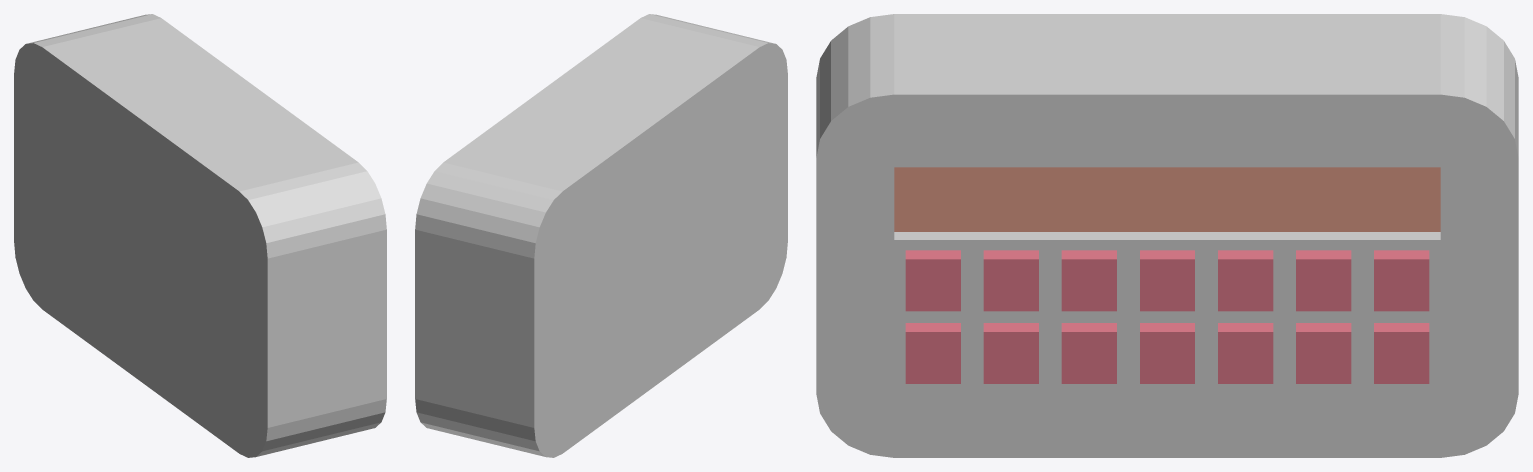
File: signal.fbx
The picture shows the model from 3 angles, left to right: view 1: azimuth 30°, elevation 25°; view 2: azimuth 150°, elevation 25°; view 3: azimuth 270°, elevation 25°; orthographic projection. The views are drawn at different scales.
Visible parts, largest first — view 1: Cube; view 2: Cube; view 3: Cube.
Part boxes in pixels (x1=…): Cube: x1=14, y1=14, x2=386, y2=457; Cube: x1=415, y1=14, x2=787, y2=457; Cube: x1=816, y1=14, x2=1518, y2=457.
Bounding box in the file's own units: 106 × 200 × 350.
